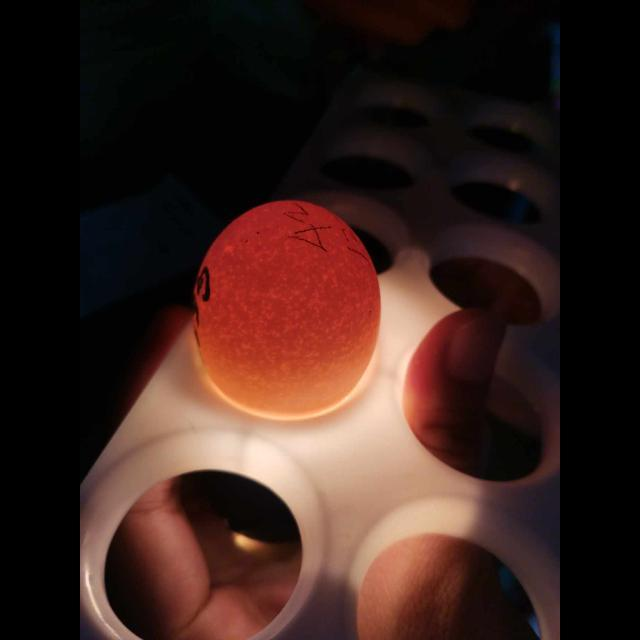Infertile: (190, 197, 380, 391)
